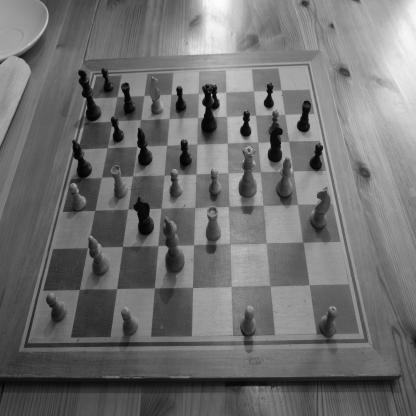black-bishop: (72, 139, 92, 179), (137, 126, 153, 167)
black-king: (78, 68, 102, 122)
black-knight: (133, 196, 155, 236), (267, 122, 283, 163)
black-pawn: (309, 142, 324, 171), (110, 115, 124, 144), (179, 138, 192, 167), (240, 109, 252, 138), (101, 67, 114, 93), (175, 85, 187, 113), (264, 82, 274, 108), (211, 84, 220, 110)
black-queen: (201, 83, 217, 133)
black-rook: (297, 99, 312, 133), (121, 82, 136, 114)
white-bishop: (88, 235, 110, 276), (276, 156, 293, 198)
white-king: (162, 216, 185, 273)
white-knight: (309, 186, 332, 230), (149, 76, 164, 116)
white-pawn: (46, 292, 68, 322), (319, 304, 338, 338), (68, 182, 86, 212), (240, 304, 256, 336), (121, 307, 138, 336), (169, 168, 183, 198), (209, 167, 222, 195), (268, 108, 280, 136)
white-queen: (238, 144, 258, 198)
white-rook: (110, 164, 128, 200), (205, 205, 222, 241)
